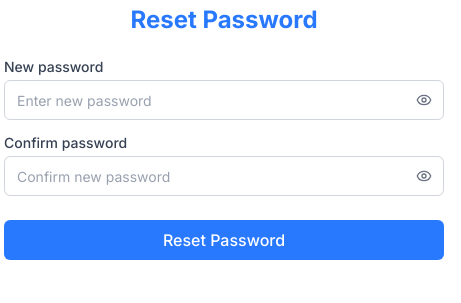
Scenario: ResetPasswordPage Client Component Tests › shows error when passwords do not match
The width and height of the screenshot is (461, 303).
Step 1. Type "Password123!" into the password field labelled "New password" → (224, 100), box [4, 80, 444, 120]
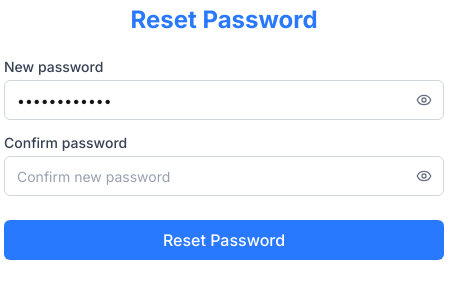
Step 2. Type "Different123!" into the password field labelled "Confirm password" → (224, 176), box [4, 156, 444, 196]
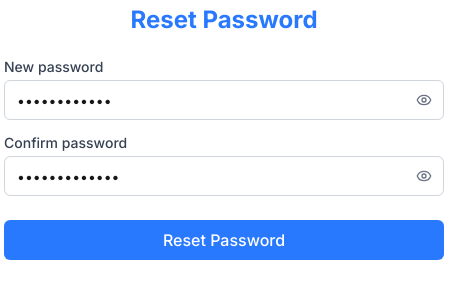
Step 3. Submit the form "New password Confirm password Reset Password"
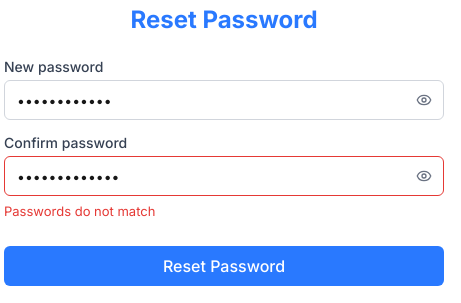
Expected: the text "Passwords do not match" is shown, [4, 203, 155, 219]
